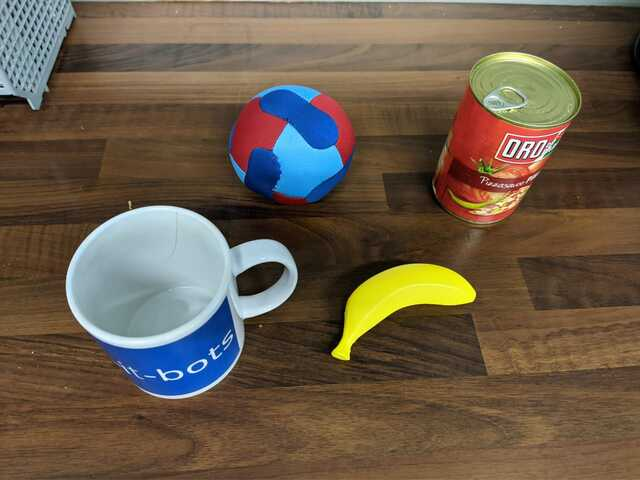005_tomato_soup_can: (430, 51, 583, 225)
011_banana: (331, 263, 478, 360)
025_mug: (64, 204, 299, 401)
057_racquetball: (226, 84, 357, 207)
